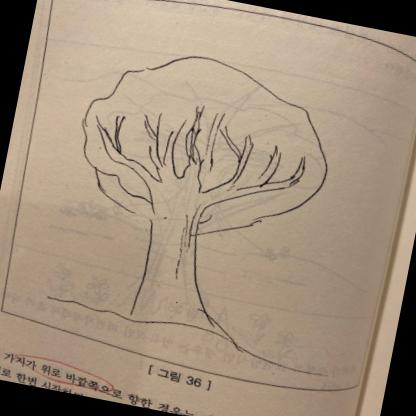branch_line: (80, 93, 312, 215)
crown_mushroom: (64, 35, 346, 261)
root_none: (96, 296, 256, 365)
trunk_bark: (127, 230, 220, 308)
